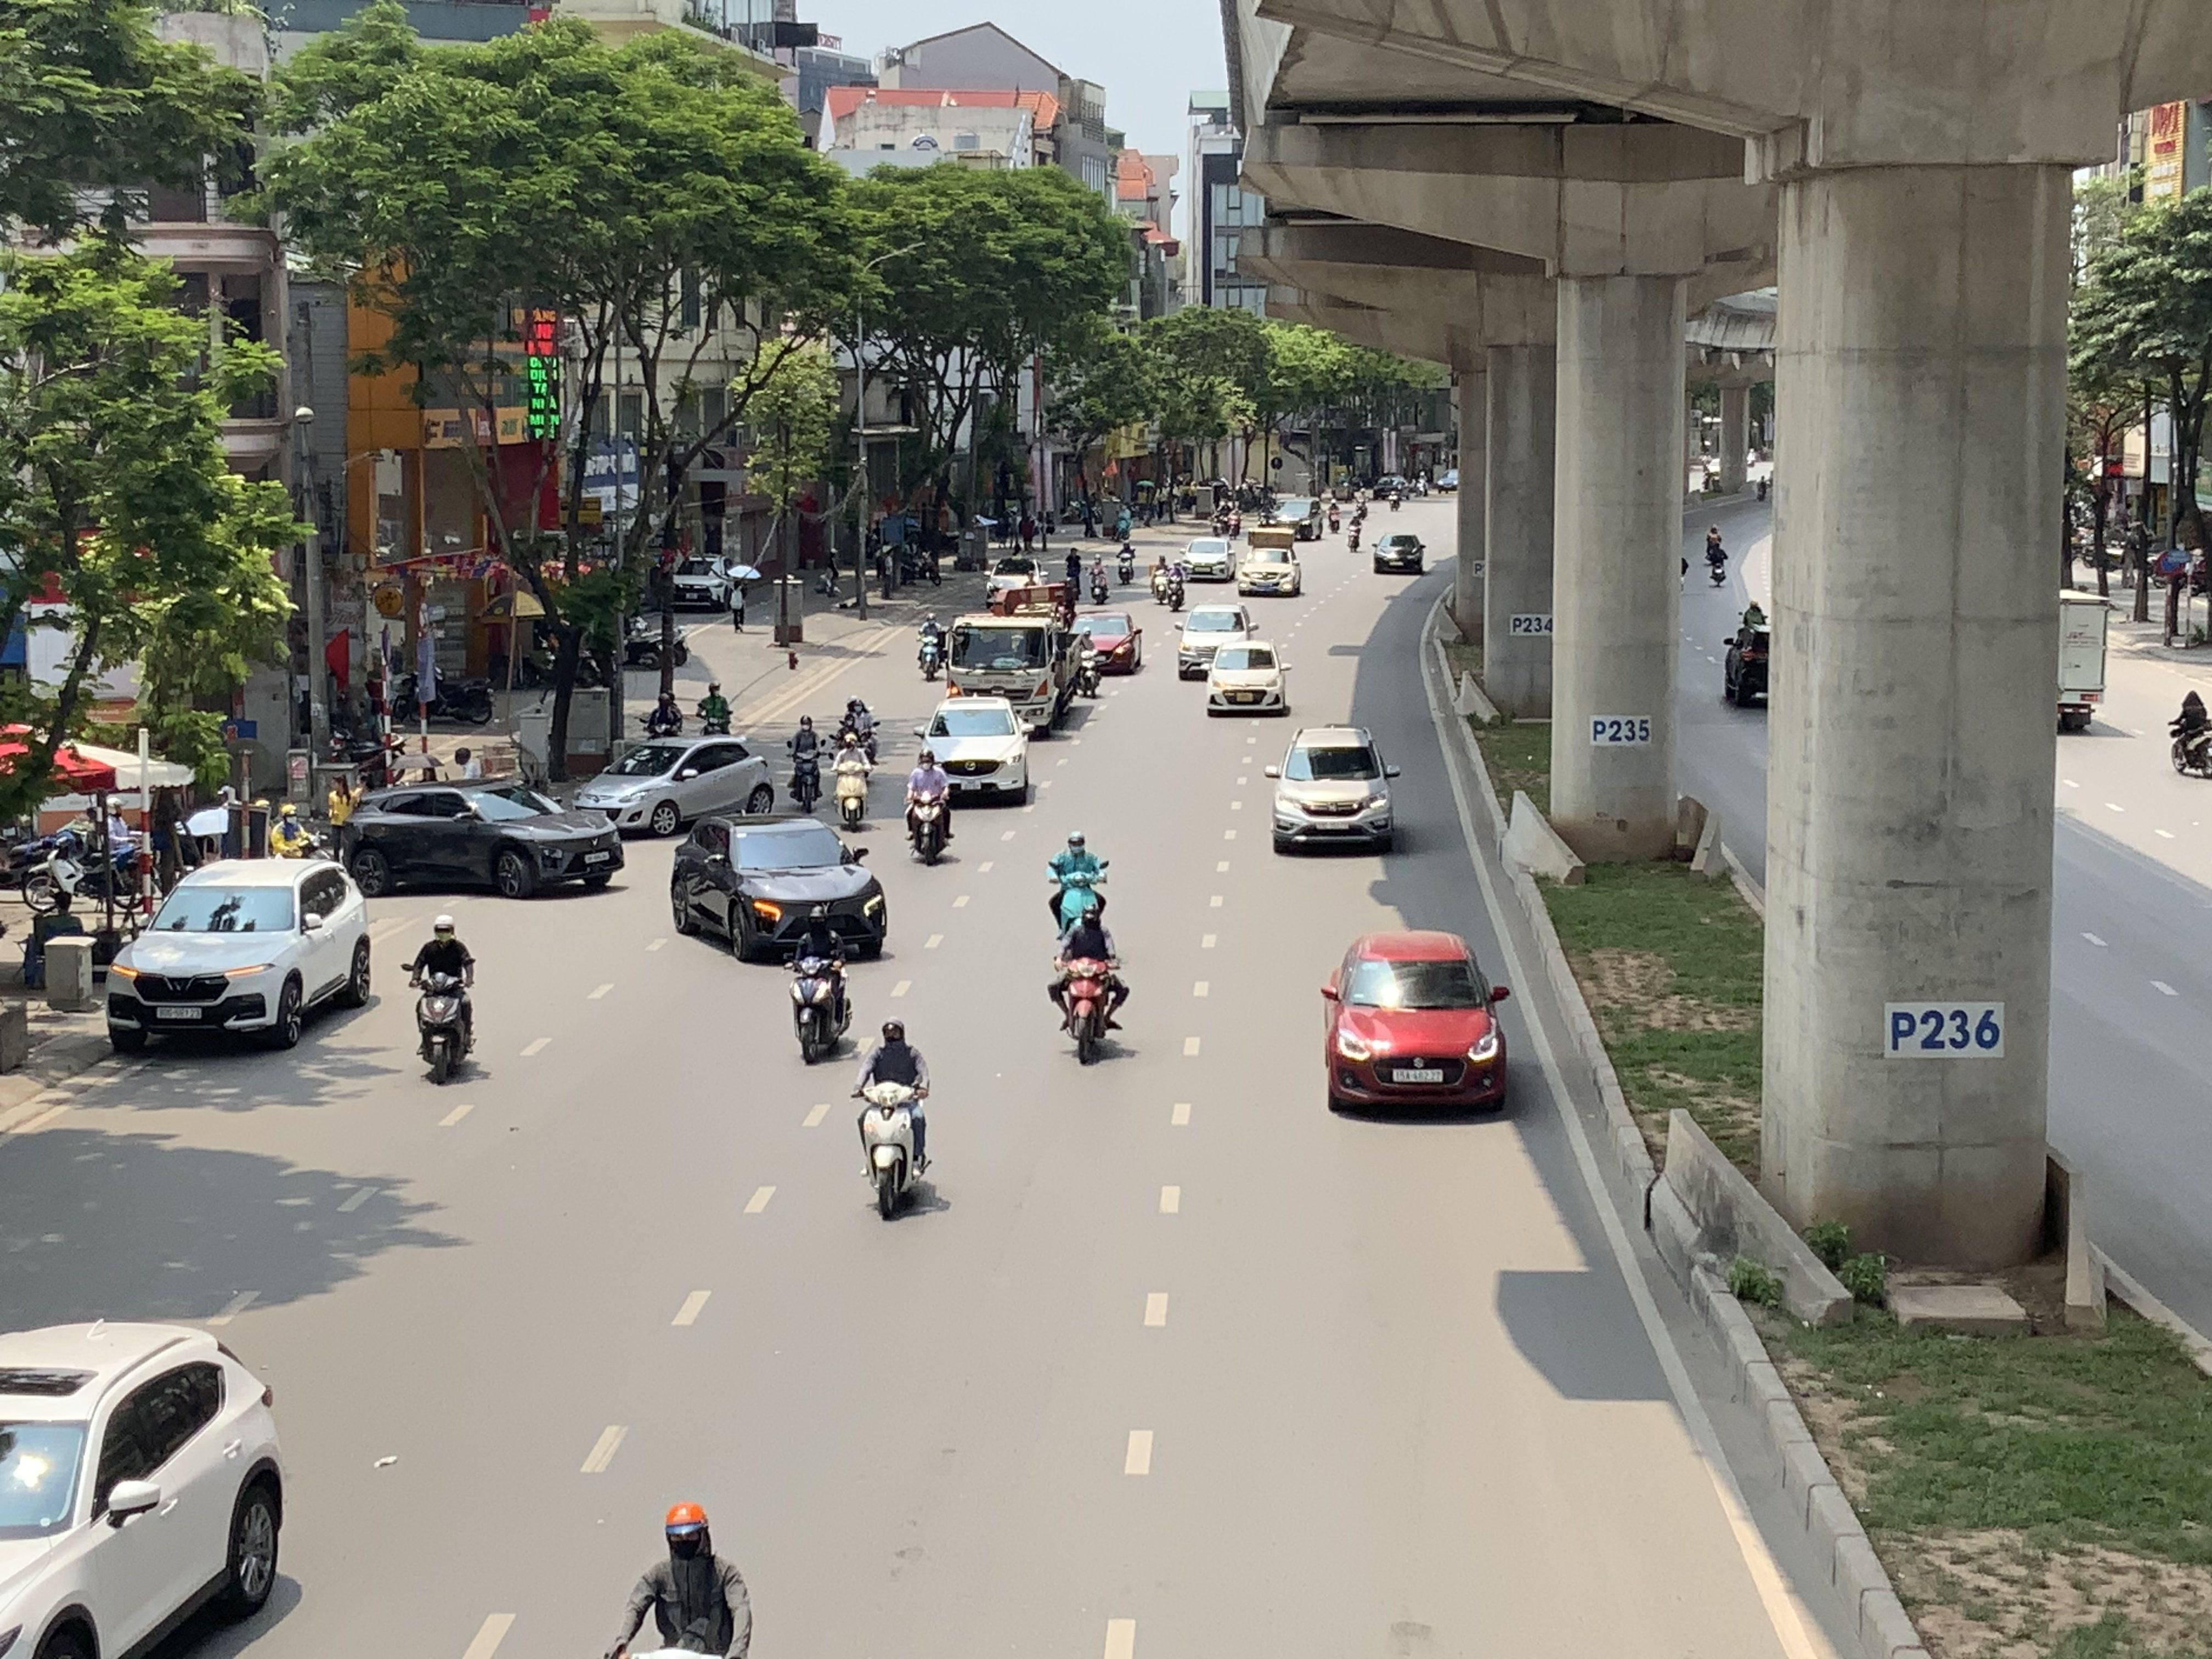BSD: (1393, 1068, 1442, 1082), (157, 1007, 202, 1019)
car: (0, 1317, 289, 1659), (103, 856, 376, 1053), (1320, 927, 1514, 1117), (326, 781, 625, 897), (667, 812, 888, 962), (571, 734, 775, 836), (1264, 725, 1400, 854), (916, 695, 1035, 807), (1205, 641, 1291, 716), (1176, 605, 1258, 678), (1233, 523, 1303, 598), (1073, 608, 1143, 674), (1179, 535, 1235, 582), (1372, 530, 1426, 573)
motorbike: (601, 1500, 754, 1659), (853, 1018, 935, 1220), (1052, 897, 1127, 1066), (406, 915, 479, 1086), (787, 910, 855, 1063), (1045, 830, 1109, 939), (904, 746, 954, 864), (2167, 687, 2212, 777), (833, 734, 874, 830), (786, 714, 826, 812), (836, 695, 883, 760), (639, 688, 685, 741), (916, 610, 946, 680), (1162, 552, 1190, 610), (1087, 554, 1111, 605), (1116, 532, 1137, 584)
truck: (949, 584, 1082, 730)
